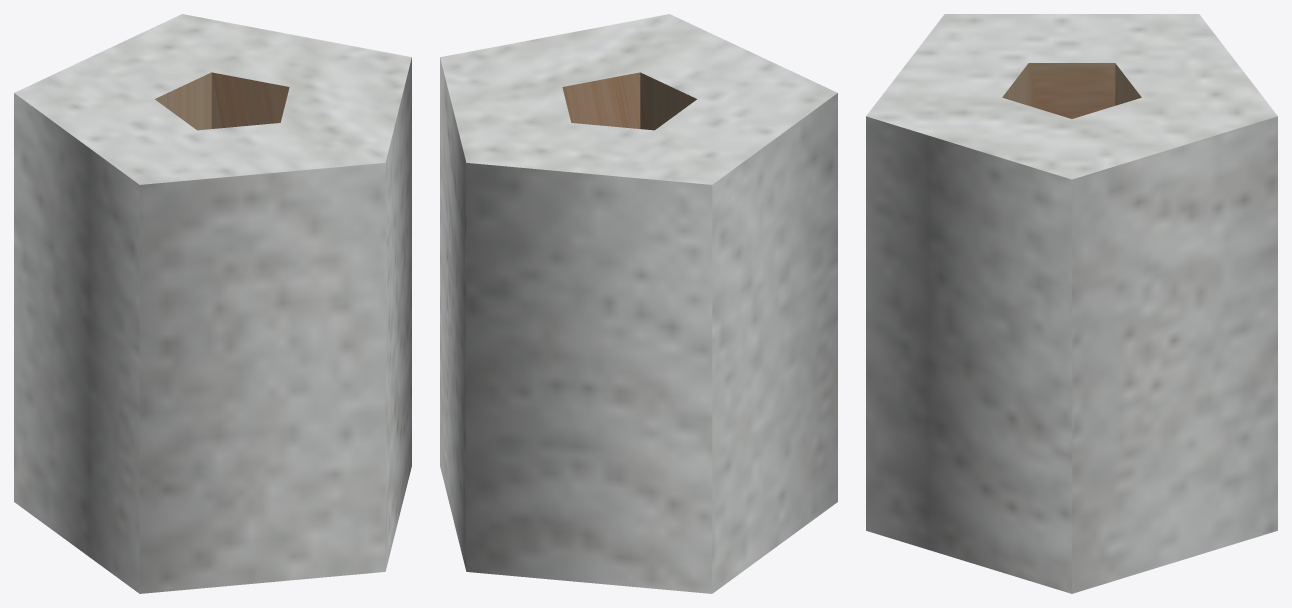
The model's file is toilet paper.FBX.
The picture shows the model from 3 angles, left to right: view 1: azimuth 30°, elevation 25°; view 2: azimuth 150°, elevation 25°; view 3: azimuth 270°, elevation 25°; orthographic projection.
Visible parts, largest first — view 1: Cylinder001, Object001; view 2: Cylinder001, Object001; view 3: Cylinder001, Object001.
Part boxes in pixels (x1=…): Cylinder001: x1=14, y1=14, x2=411, y2=593; Object001: x1=155, y1=72, x2=289, y2=130; Cylinder001: x1=440, y1=14, x2=837, y2=593; Object001: x1=562, y1=72, x2=696, y2=130; Cylinder001: x1=866, y1=14, x2=1277, y2=593; Object001: x1=1002, y1=63, x2=1141, y2=118.
Size of the model in its own units: 11.19 by 13.06 by 11.77.
2 materials, 2 textured.
